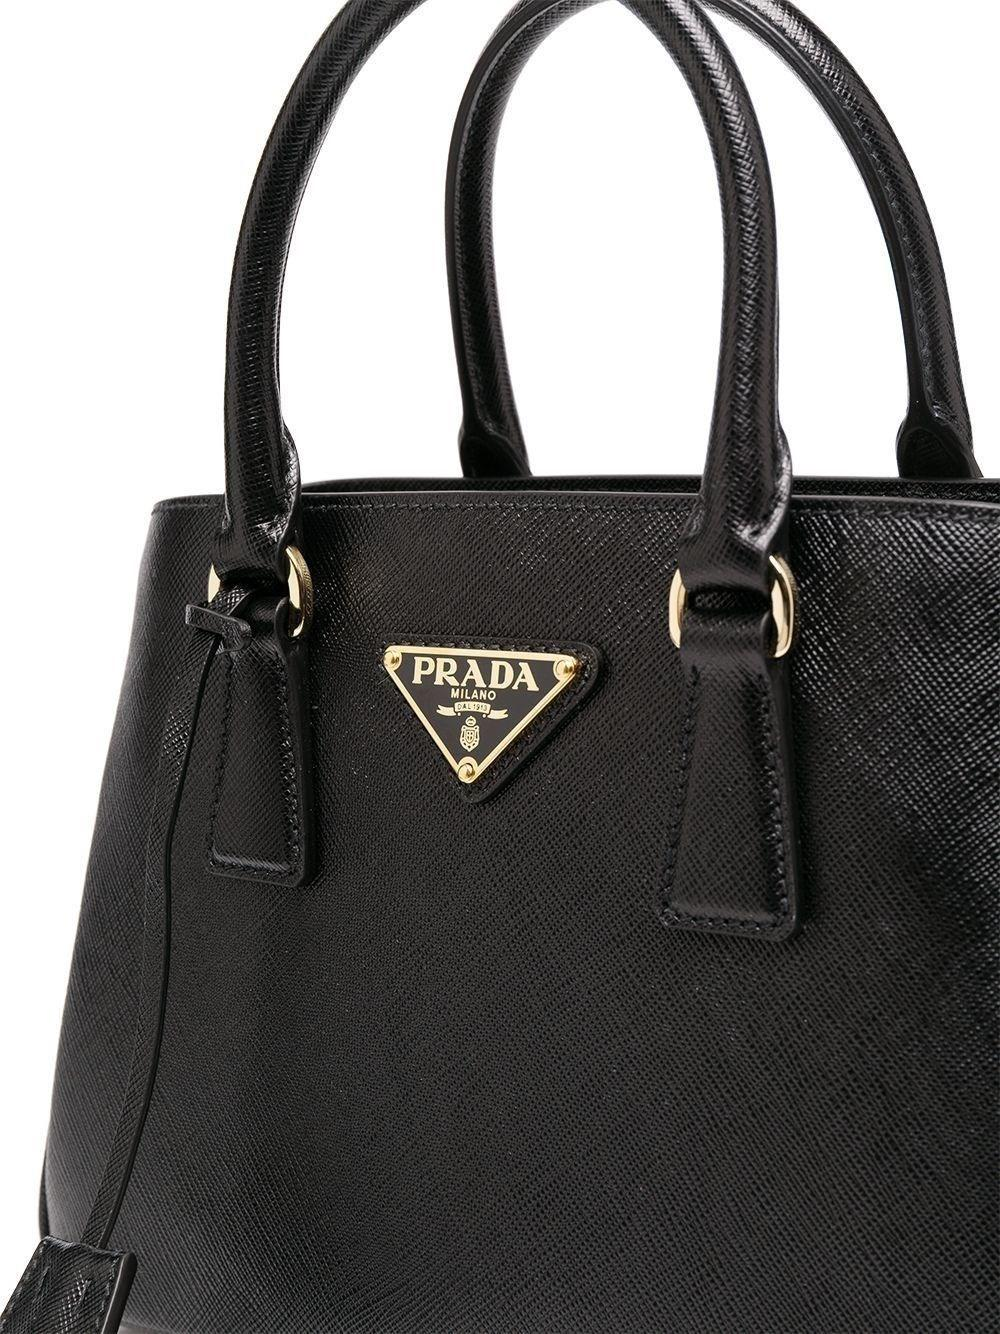PRADA: (382, 644, 581, 785)
